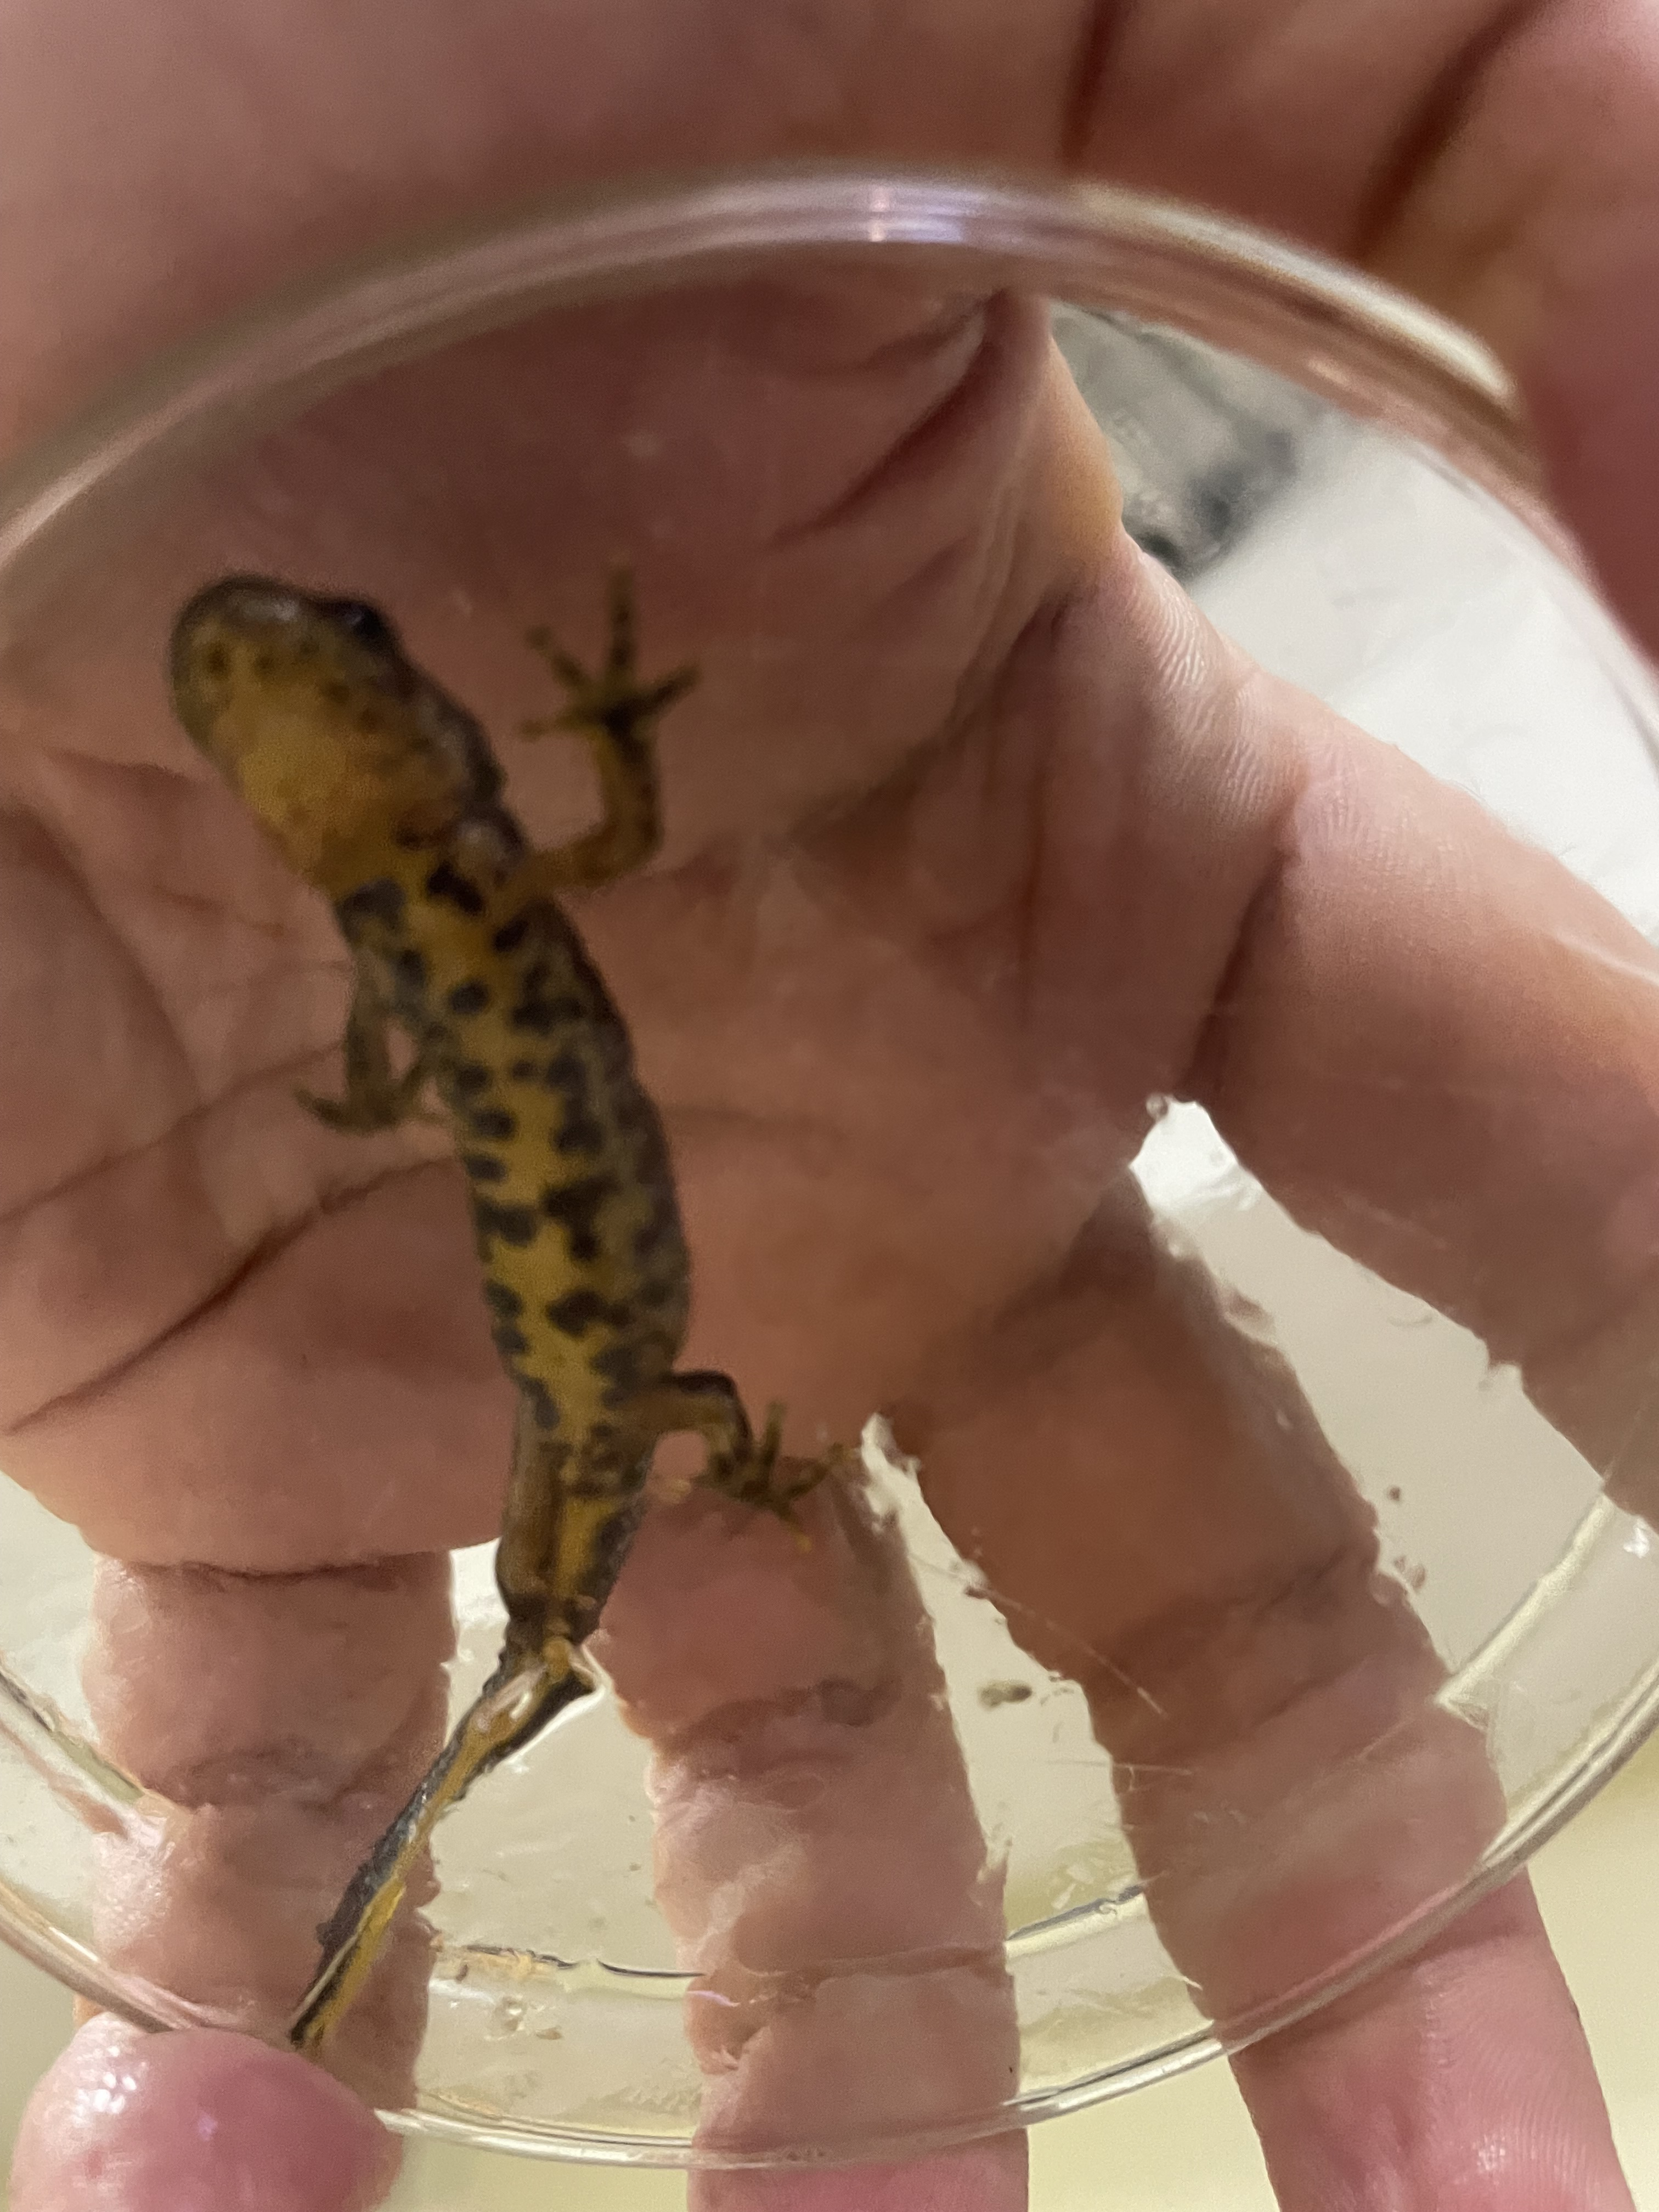Karelin_newt: (385, 895, 690, 1393)
